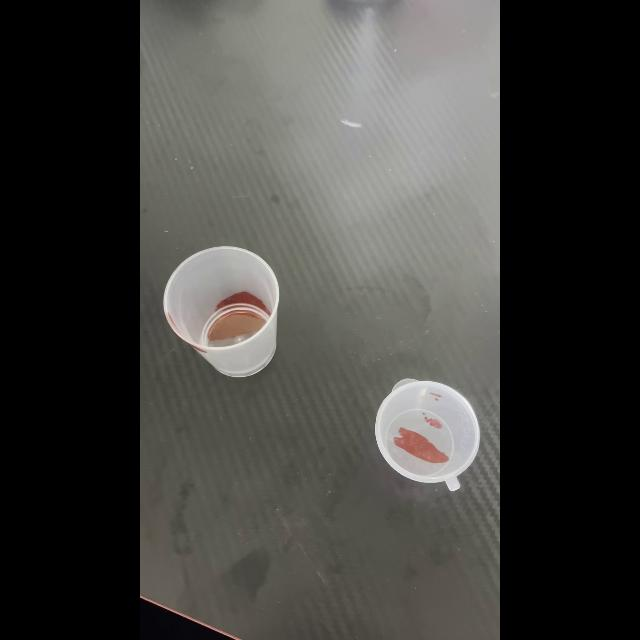dirty: (162, 246, 280, 376), (374, 379, 482, 488)
